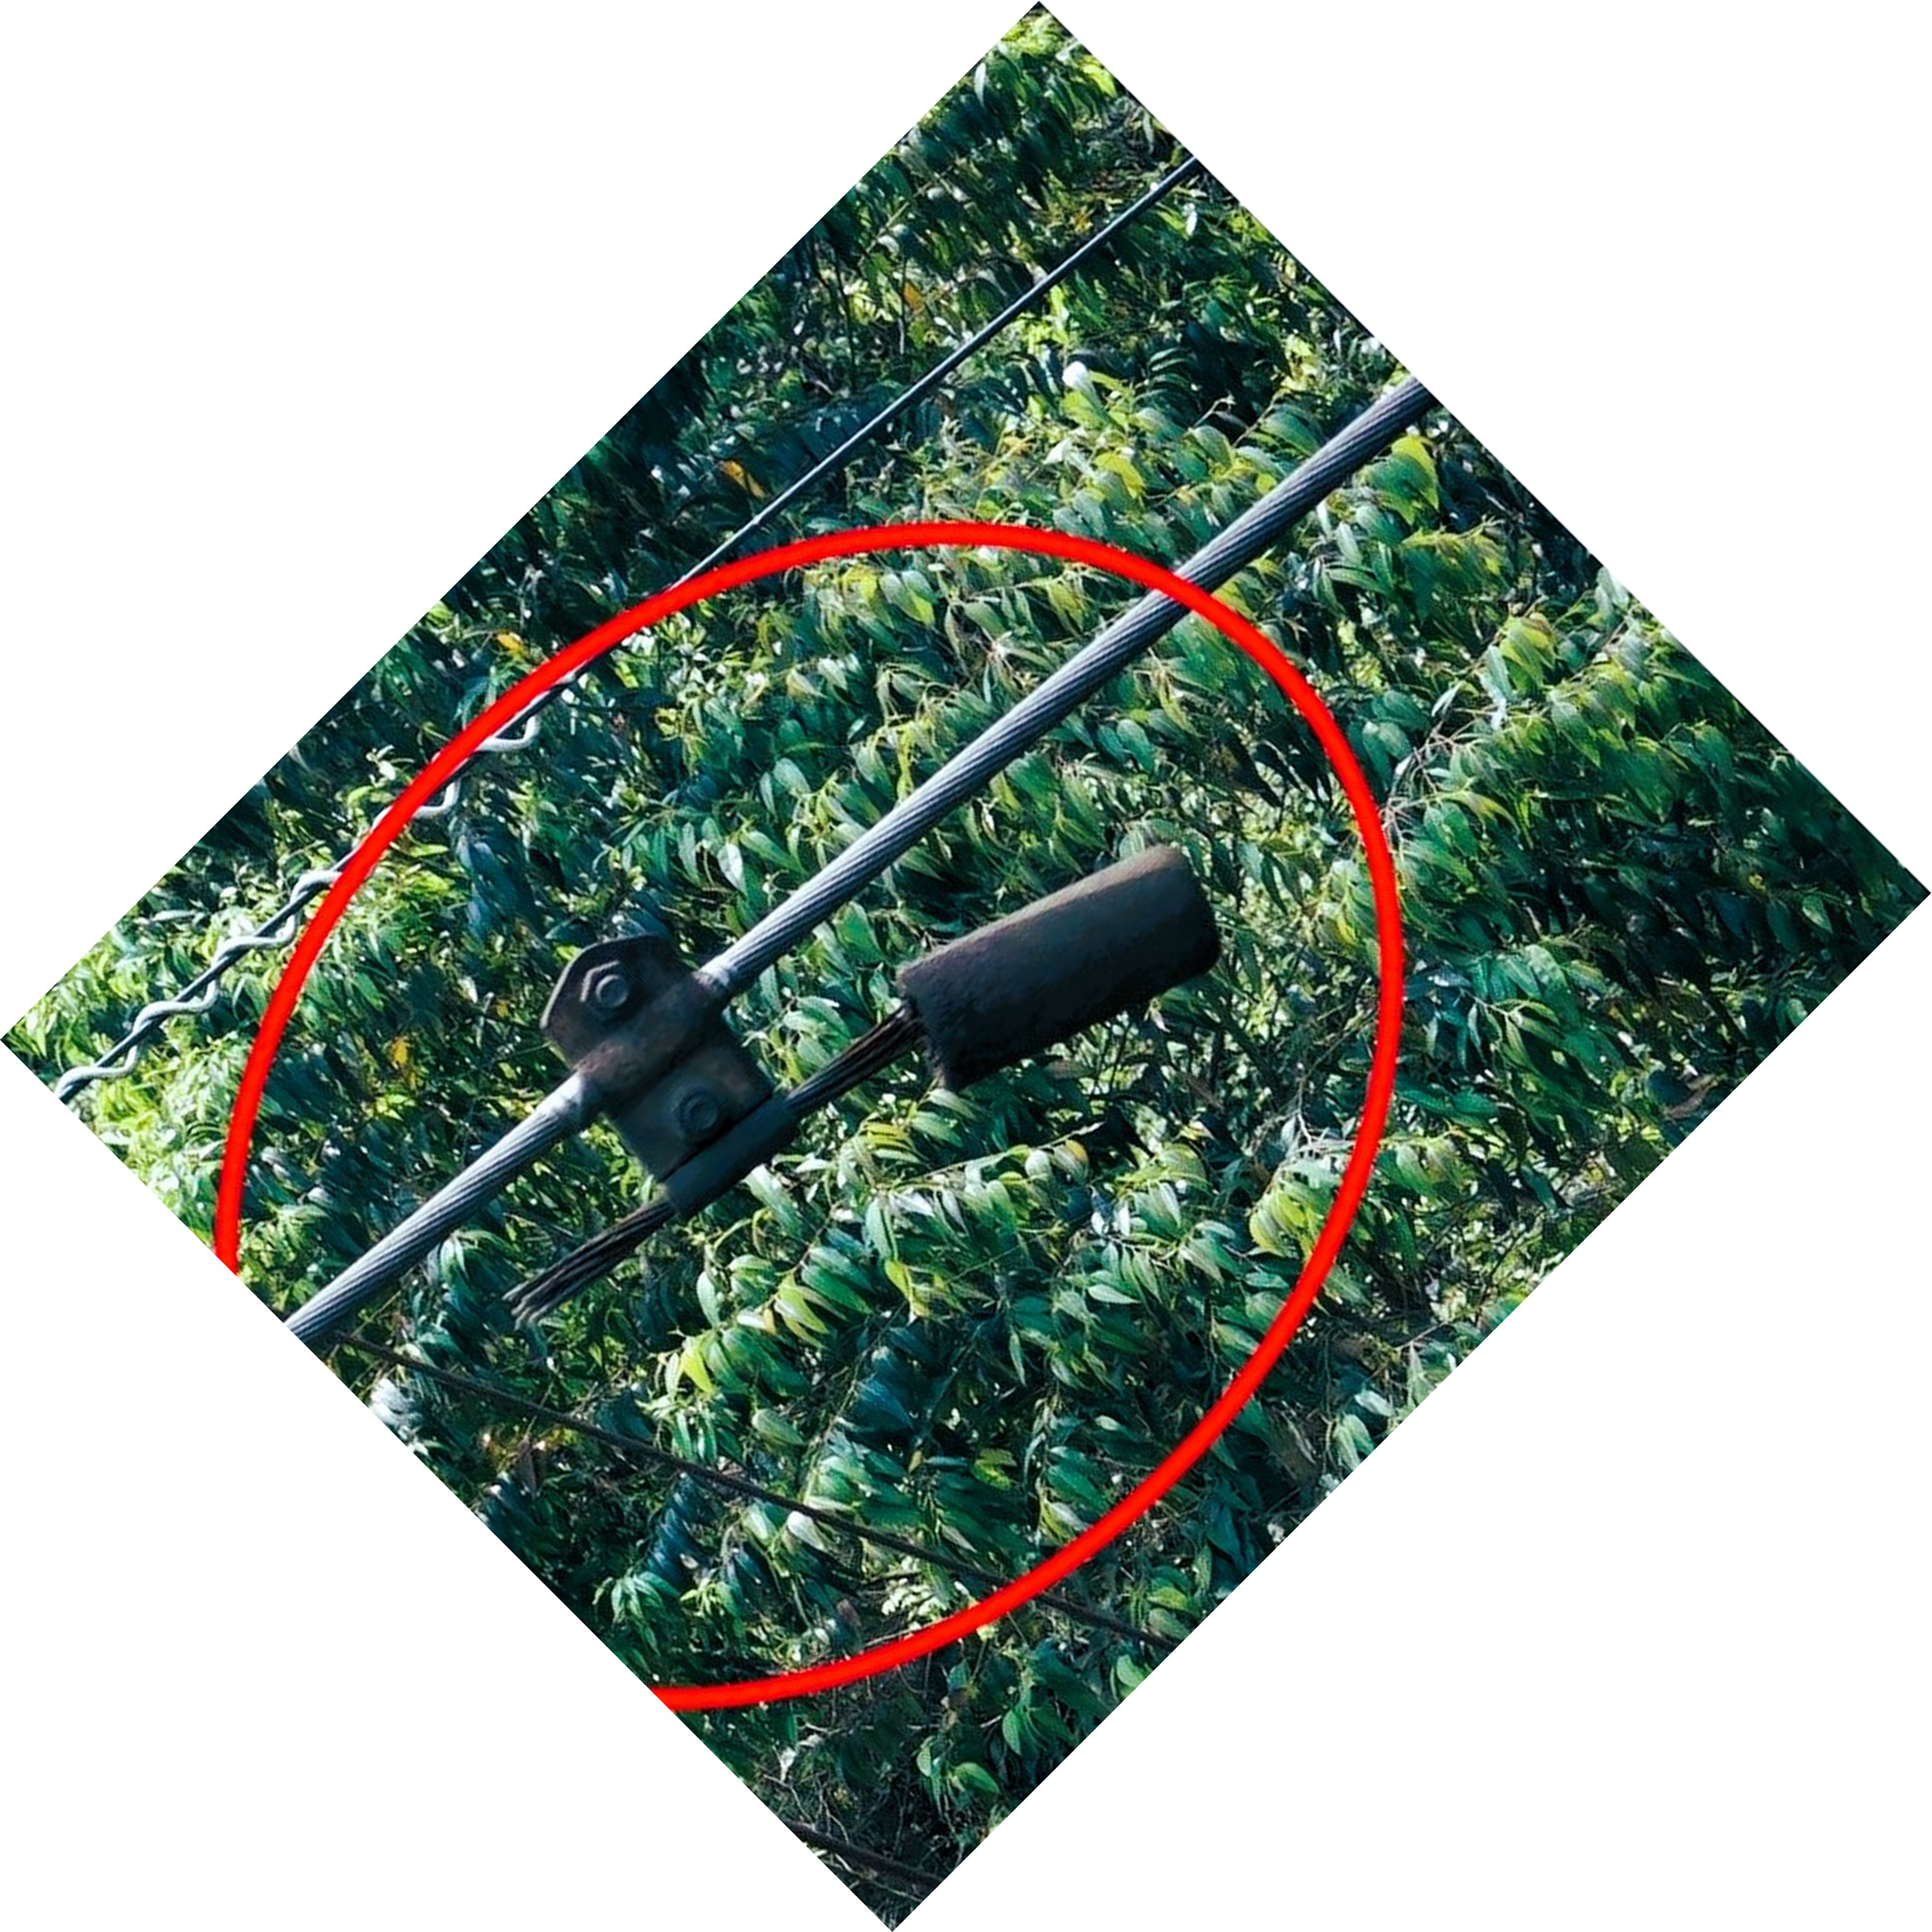Damage of shockproof hammer: (464, 777, 1256, 1353)
